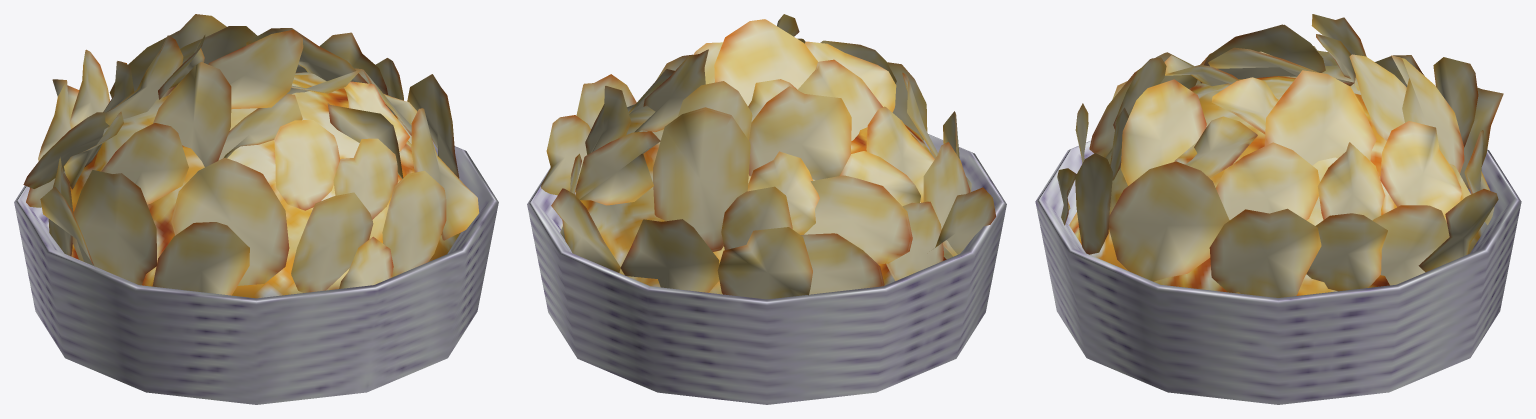
The model's file is BianLiDian_01_shupian_01.FBX.
3 renders of one model, left to right at view 1: azimuth 30°, elevation 25°; view 2: azimuth 150°, elevation 25°; view 3: azimuth 270°, elevation 25°, orthographic.
Visible parts, largest first — view 1: BianLiDian_01_shupian_01; view 2: BianLiDian_01_shupian_01; view 3: BianLiDian_01_shupian_01.
Part boxes in pixels (x1=…): BianLiDian_01_shupian_01: x1=14, y1=14, x2=498, y2=404; BianLiDian_01_shupian_01: x1=527, y1=14, x2=1006, y2=404; BianLiDian_01_shupian_01: x1=1035, y1=14, x2=1521, y2=404.
Bounding box in the file's own units: 158 × 99.42 × 158.
